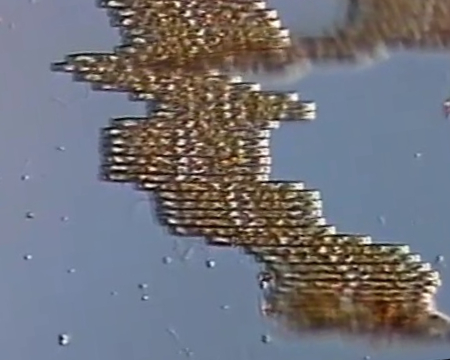fil: (67, 52, 355, 65), (50, 63, 291, 73), (118, 25, 292, 38), (104, 8, 282, 20), (99, 164, 274, 176), (103, 126, 272, 138), (112, 16, 281, 28), (115, 43, 295, 54), (168, 225, 338, 236), (123, 35, 293, 46), (134, 183, 307, 193), (243, 244, 416, 254), (99, 137, 271, 147), (100, 173, 272, 183), (153, 189, 325, 199), (146, 111, 318, 121), (110, 118, 281, 128), (101, 155, 272, 165), (92, 82, 263, 92), (73, 72, 243, 82), (255, 255, 422, 265), (128, 91, 303, 100), (158, 218, 329, 227), (257, 272, 441, 280), (205, 236, 375, 244), (264, 266, 434, 274), (155, 208, 321, 216), (99, 147, 271, 154), (155, 199, 325, 206), (147, 101, 314, 108), (259, 281, 444, 287)
